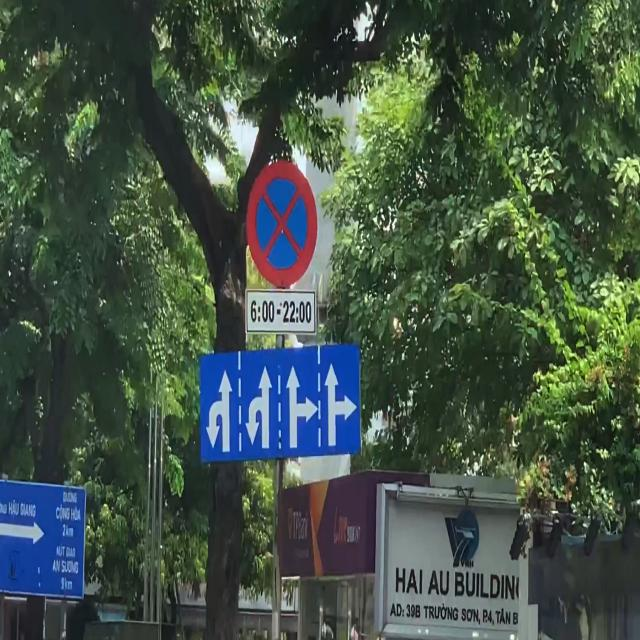Cam dung va do: (244, 152, 320, 294)
